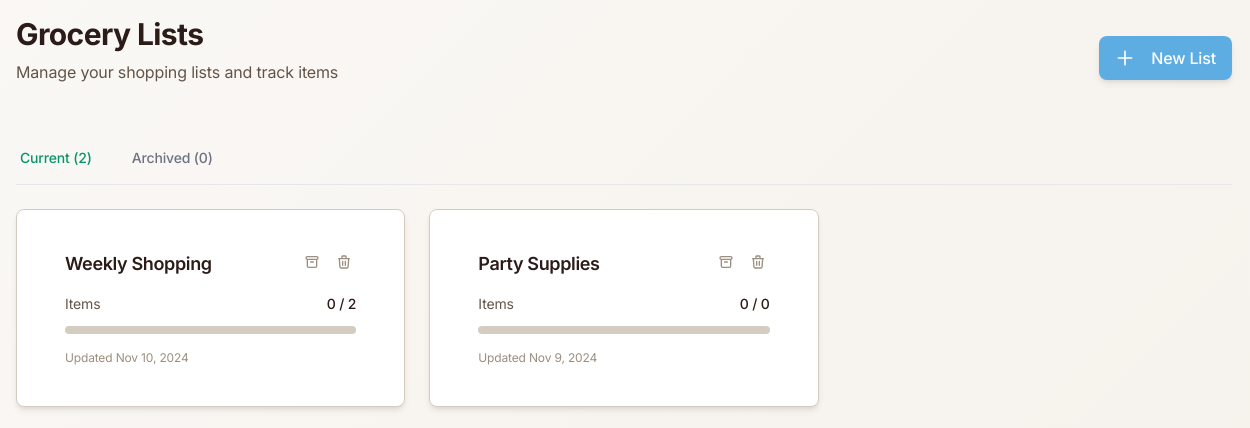
Scenario: GroceryListsPage › Tabs functionality › should show correct empty state for Archived tab
Expected: the heading "Grocery Lists" is shown, [16,16,203,52]
// Click Archived tab
Click the button "Archived (0)".
click(172, 158)  # box [128,132,217,184]
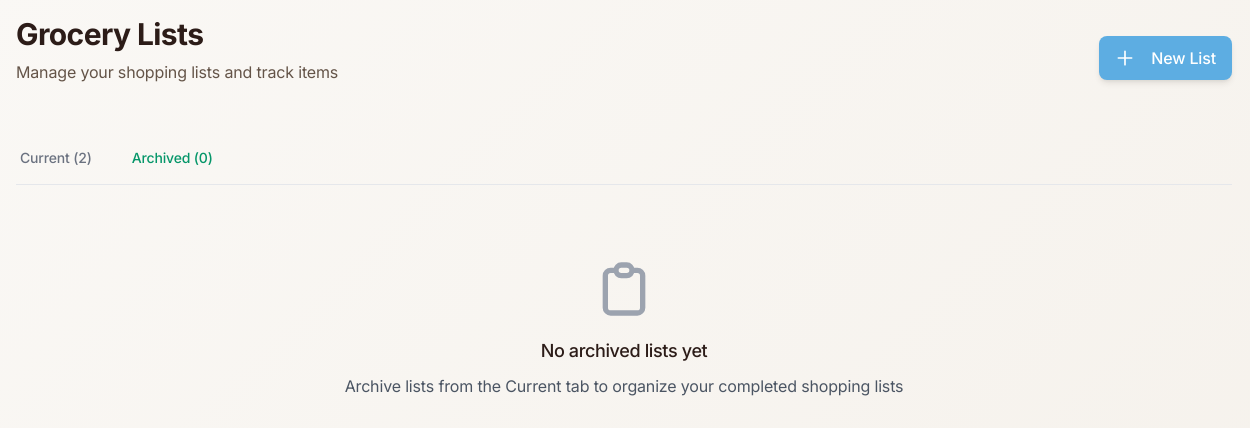
Expected: the heading "No archived lists yet" is shown, [541,340,707,361]
Expected: the text "Archive lists from the Current tab to organize your completed shopping lists" is shown, [345,376,903,396]
